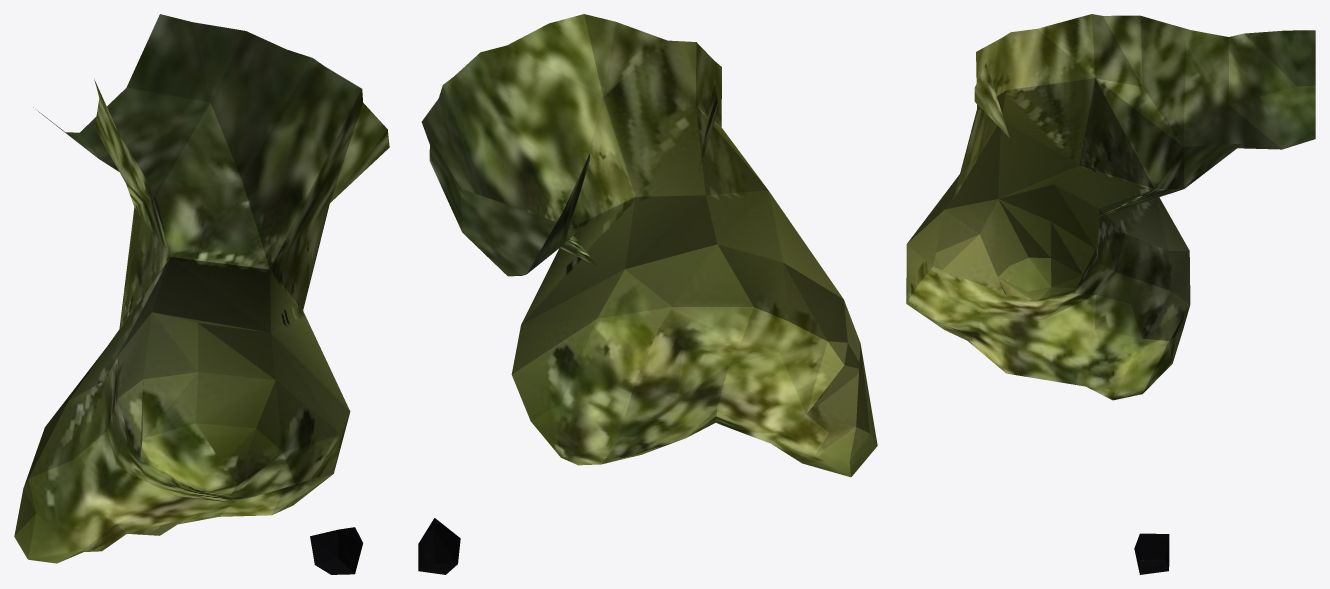
3 views of the same model, side by side, from view 1: azimuth 30°, elevation 25°; view 2: azimuth 150°, elevation 25°; view 3: azimuth 270°, elevation 25° (orthographic). The views are drawn at different scales.
Bounding box in the file's own units: 1.4 × 1.72 × 1.42.
Materials: 1 (1 with a texture image).
